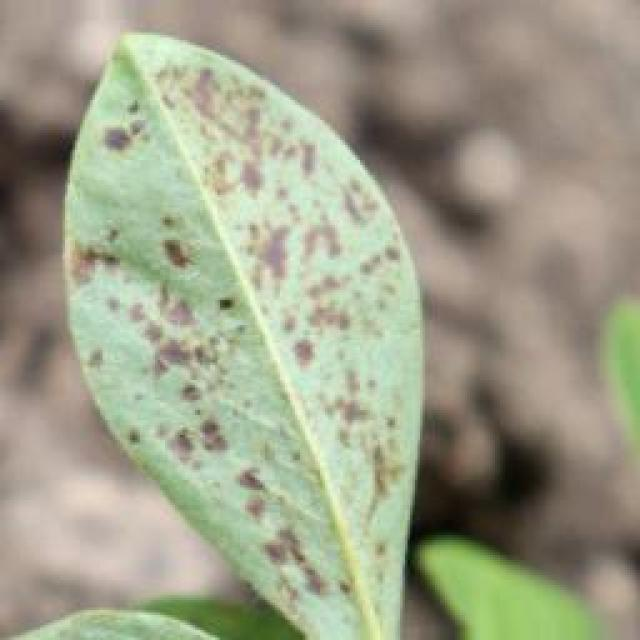Whitefly: (33, 14, 421, 618)
